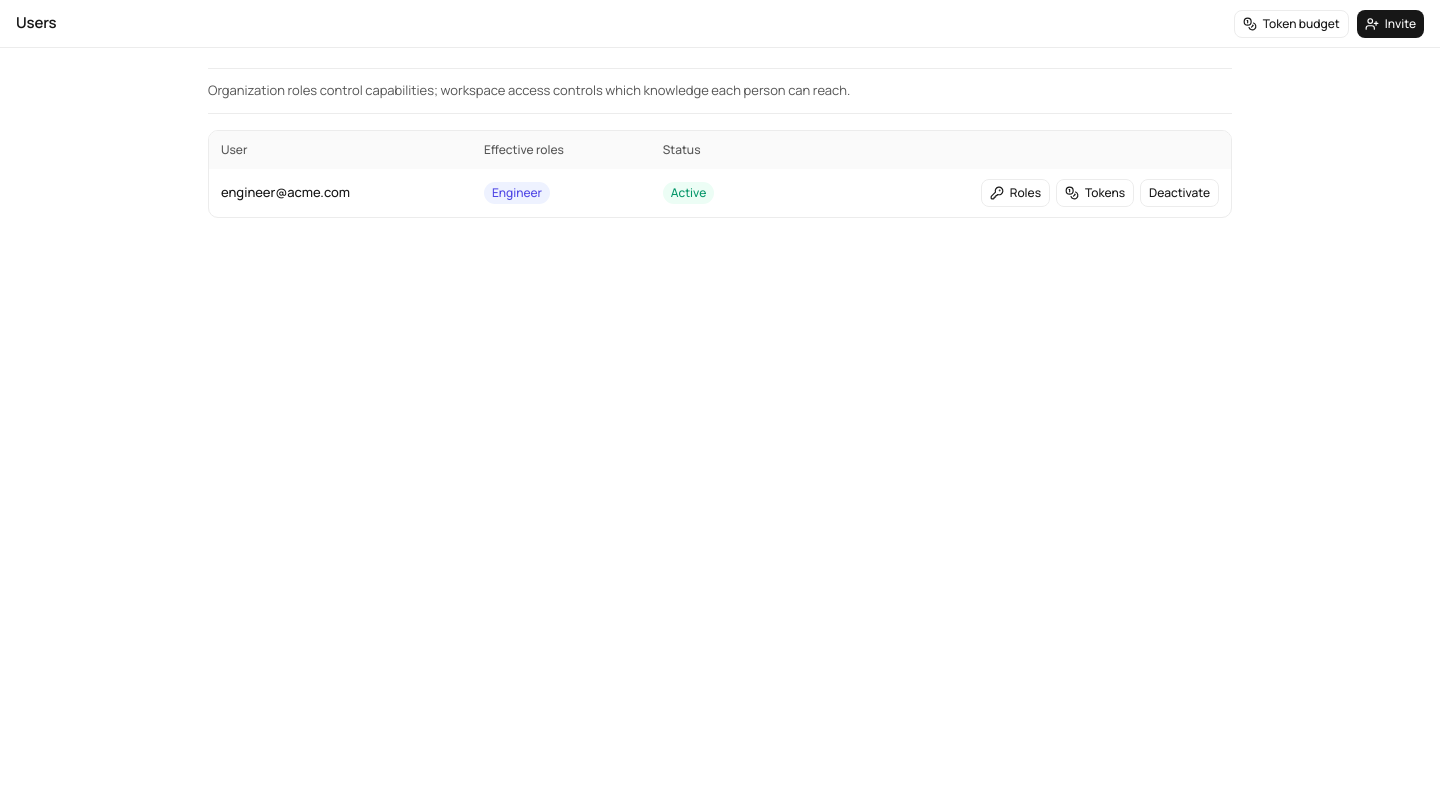
keeps effective roles unchanged when authorization fails
Expected: the text "Engineer" is shown, [484, 182, 550, 204]
Click the button with aria-label "Manage roles for engineer@acme.com" at point(1015, 192), box [981, 178, 1050, 206]
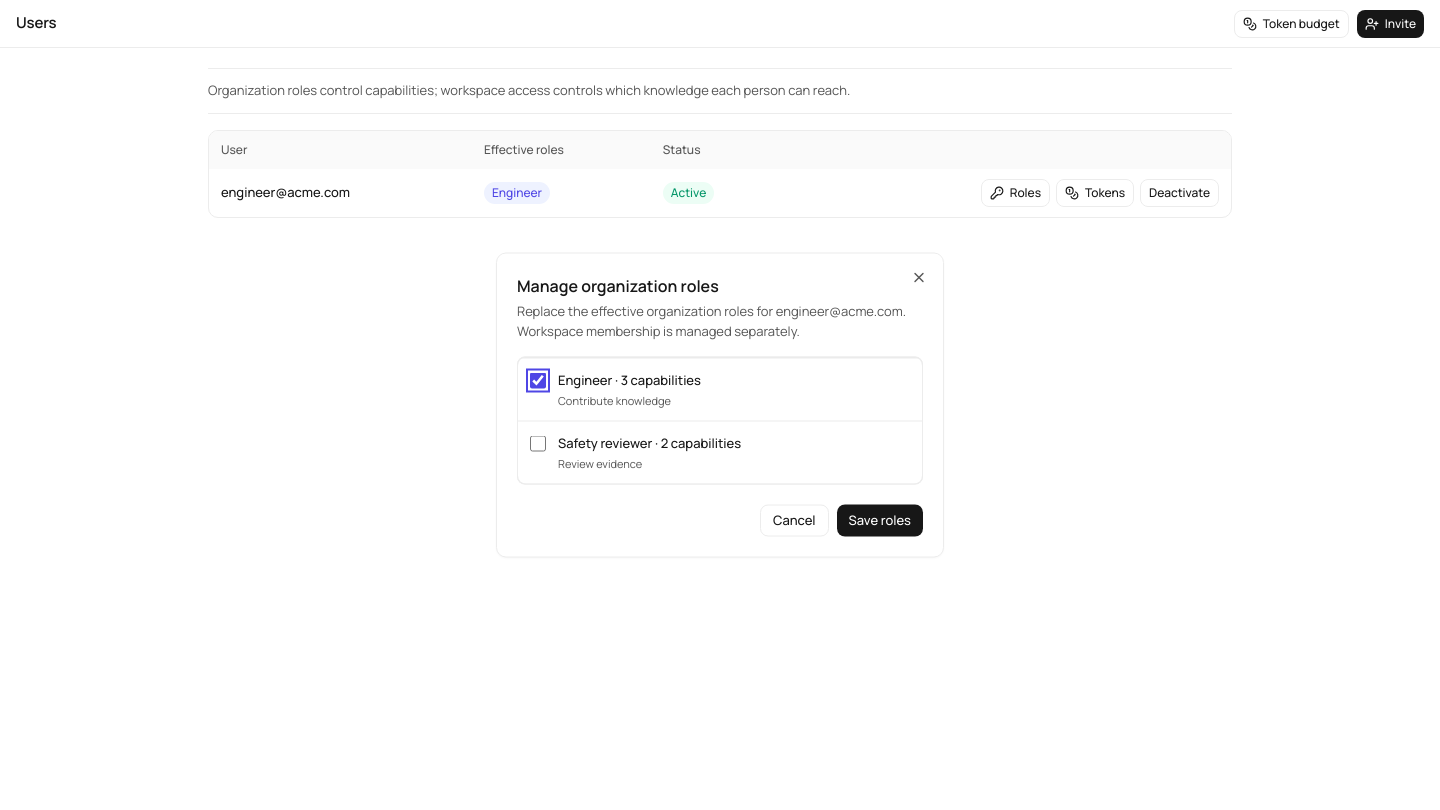
Click the checkbox labelled "Safety reviewer · 2 capabilities Review evidence" at point(538, 444), box [530, 436, 546, 452]
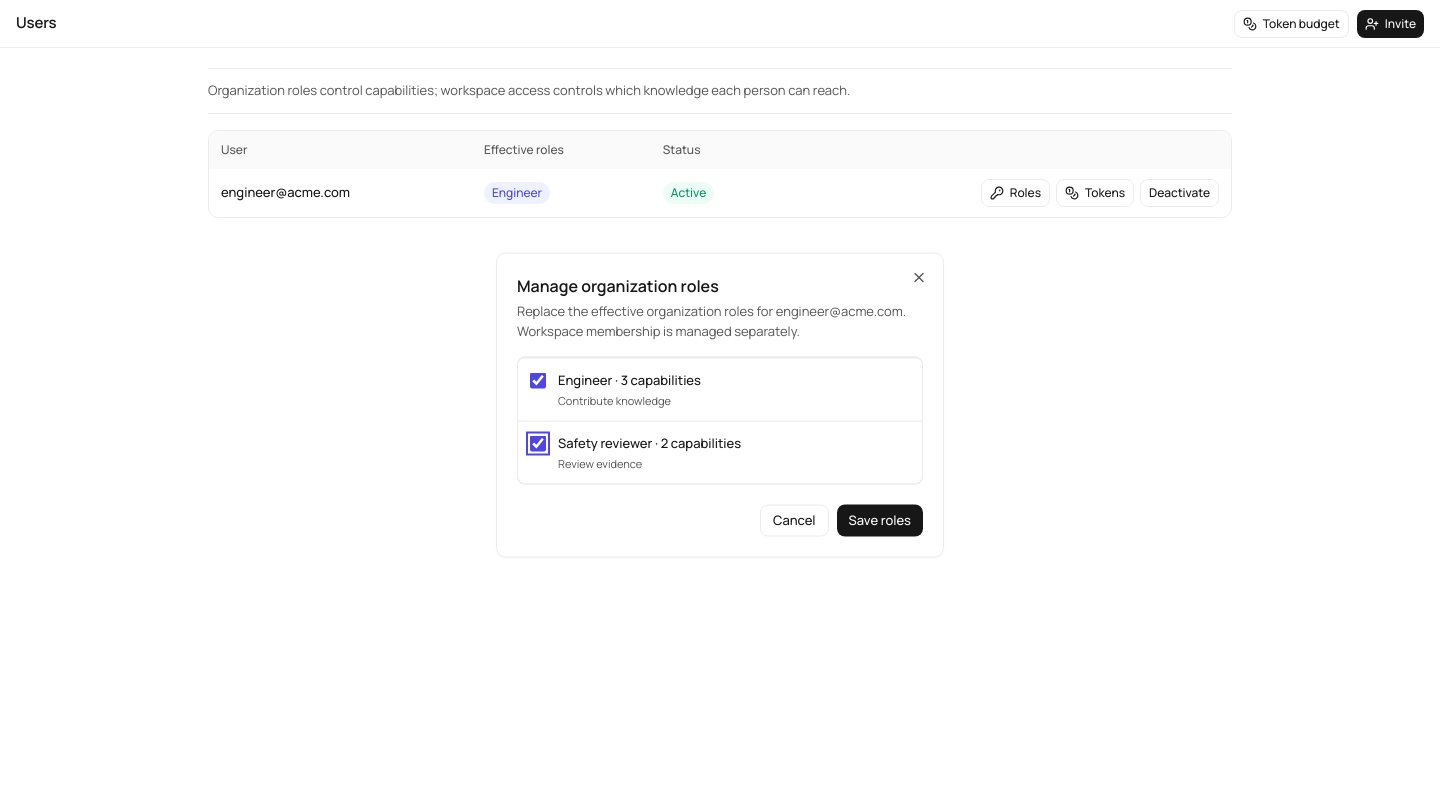
Click the button "Save roles" at point(880, 520), box [837, 504, 923, 536]
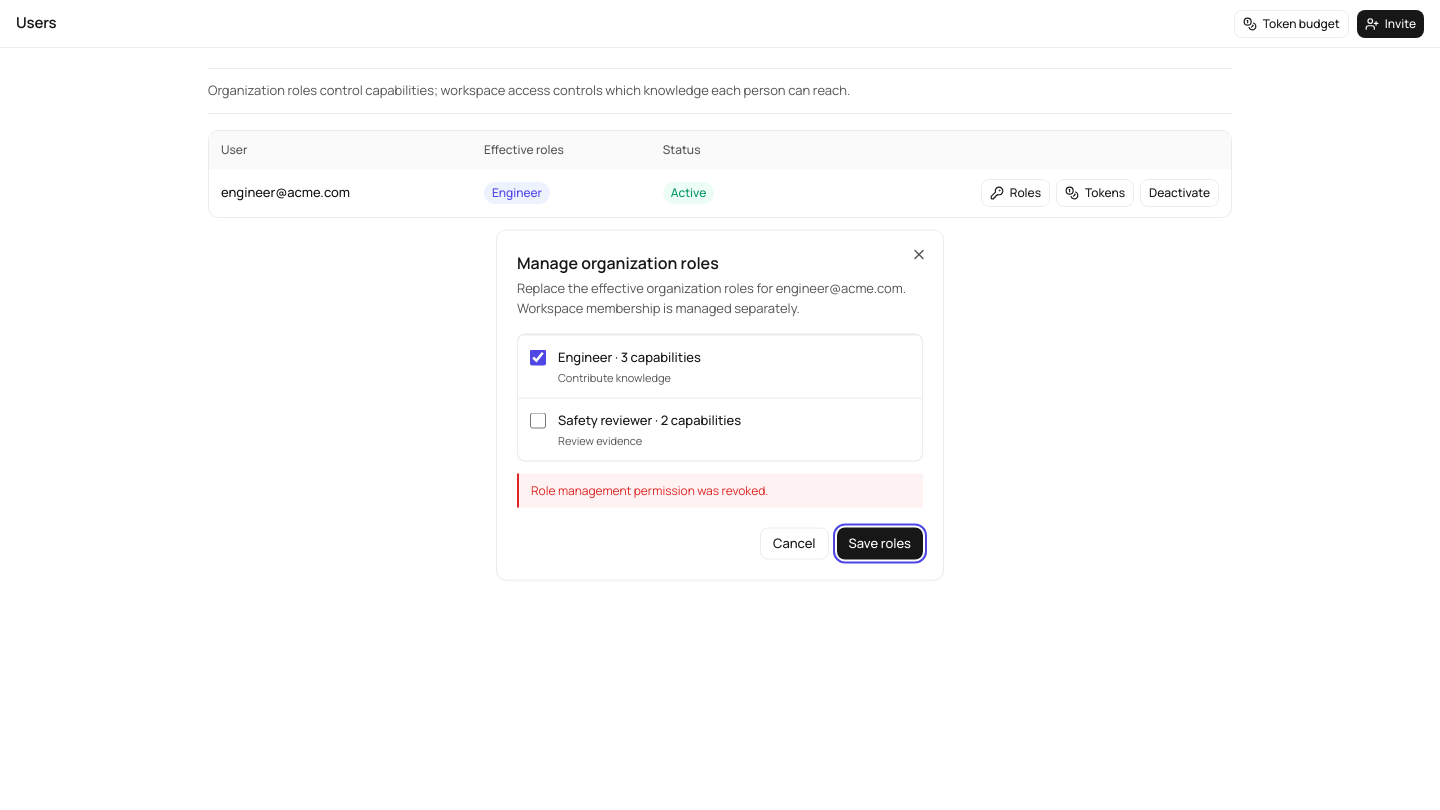
Expected: the checkbox labelled "Safety reviewer · 2 capabilities Review evidence" is not checked, [530, 412, 546, 428]
Expected: the checkbox labelled "Engineer · 3 capabilities Contribute knowledge" is checked, [530, 350, 546, 366]
Expected: the message reads "Role management permission was revoked.", [531, 482, 768, 498]
